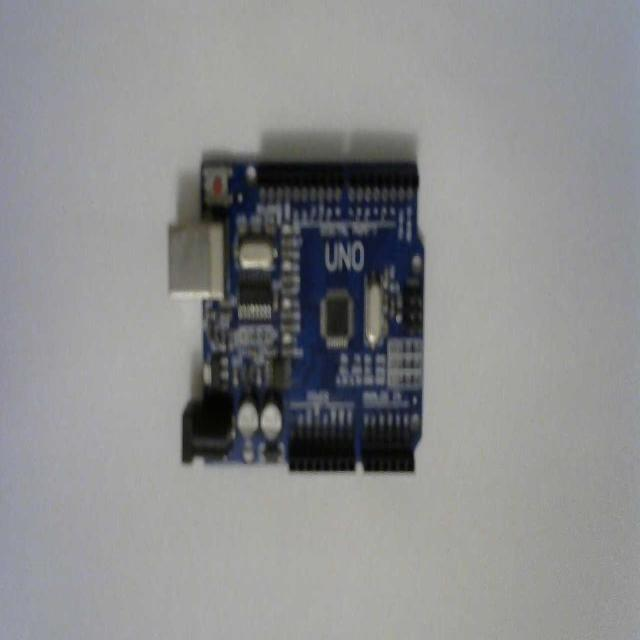arduino: (169, 152, 427, 480)
